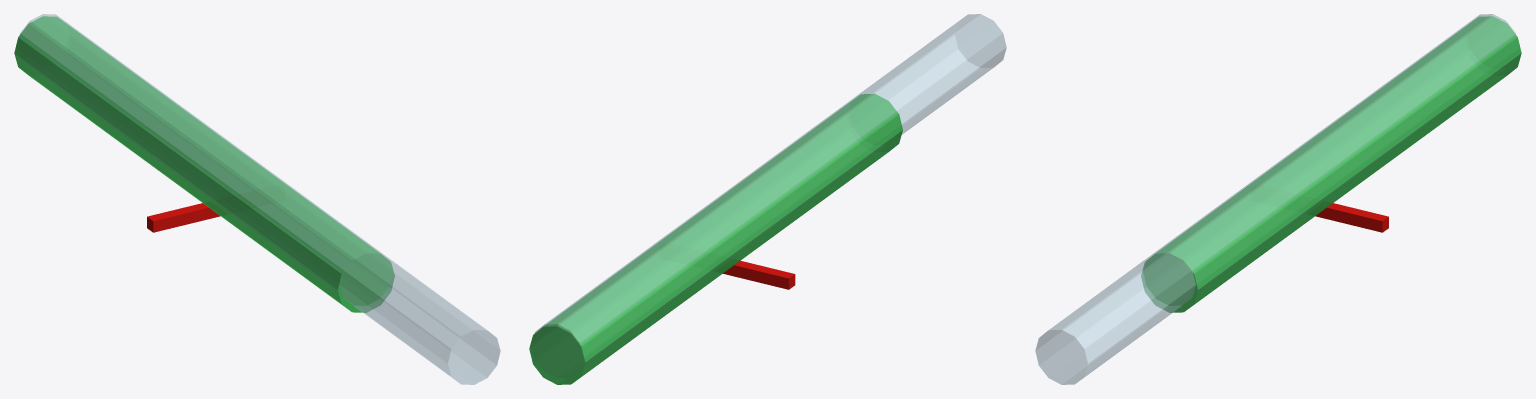
File: coolant_level_ok.glb
The picture shows the model from 3 angles, left to right: view 1: azimuth 30°, elevation 25°; view 2: azimuth 150°, elevation 25°; view 3: azimuth 330°, elevation 25°; orthographic projection.
Visible parts, largest first — view 1: coolant_level_ok; view 2: coolant_level_ok; view 3: coolant_level_ok.
Part boxes in pixels (x1,y1,x2,y2): coolant_level_ok: (14, 14, 500, 384); coolant_level_ok: (529, 14, 1006, 384); coolant_level_ok: (1035, 14, 1521, 384).
Size of the model in its own units: 0.06 by 0.032 by 0.34.
